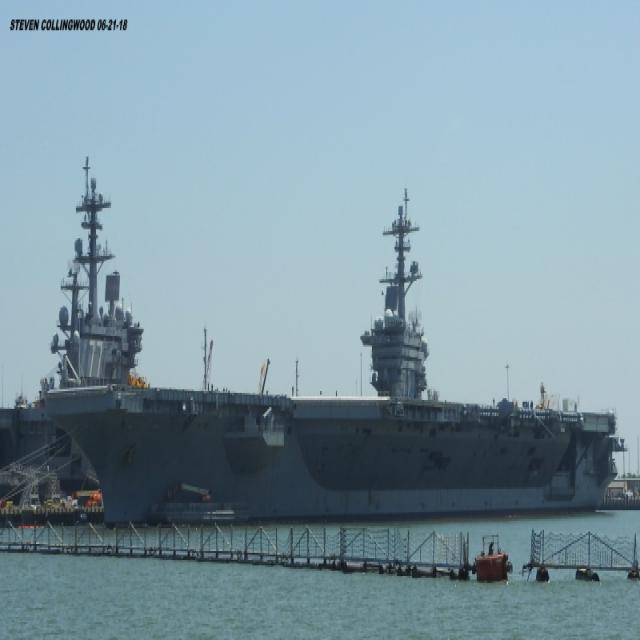Portanaves: (42, 99, 628, 556)
